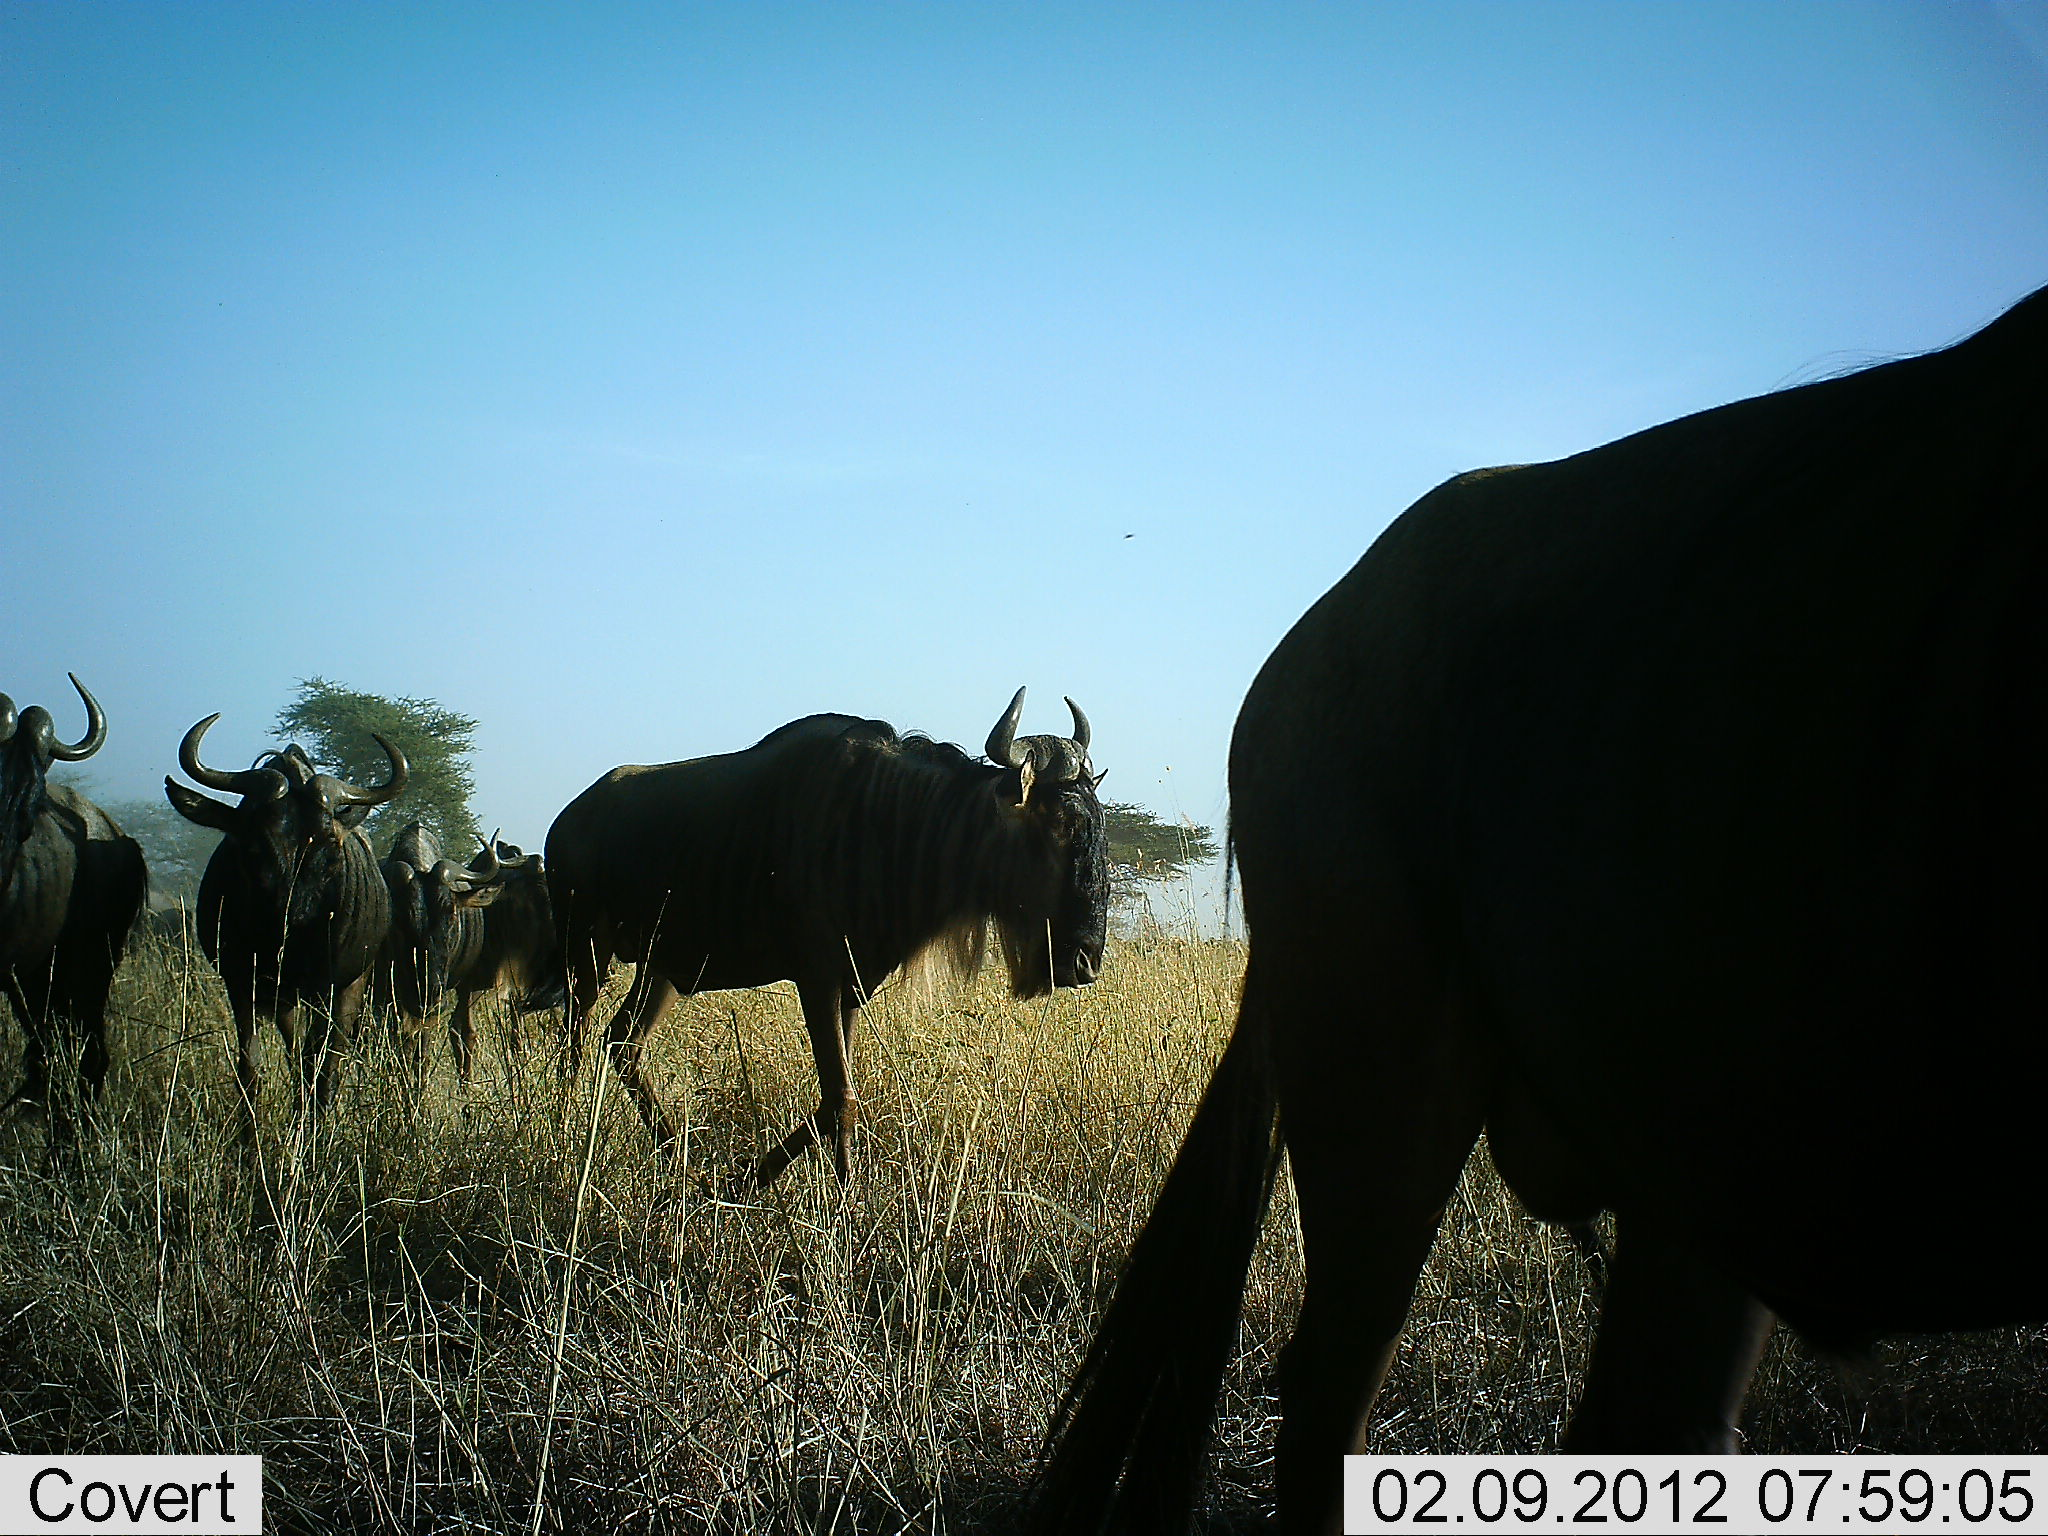OtherBird: (1118, 524, 1143, 552)
Wildebeest: (1001, 284, 2048, 1536), (535, 684, 1116, 1192), (164, 710, 411, 1162), (2, 670, 148, 1134), (460, 828, 637, 1126), (343, 815, 502, 1141)
